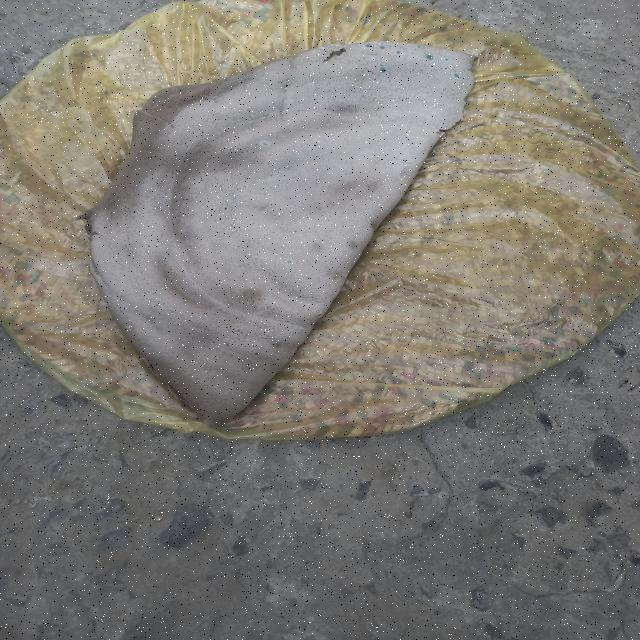injera_mold: (124, 316, 134, 332), (258, 140, 270, 148), (425, 54, 434, 61), (379, 68, 387, 74), (286, 260, 294, 265), (453, 73, 461, 78), (330, 43, 340, 47), (395, 50, 402, 55), (204, 357, 210, 362), (379, 46, 386, 50), (433, 68, 439, 72), (319, 46, 325, 50), (202, 362, 207, 366), (365, 44, 371, 47), (444, 58, 450, 61), (379, 64, 385, 66), (201, 97, 204, 100), (197, 358, 201, 360), (417, 46, 421, 48), (205, 371, 208, 373), (202, 95, 205, 97), (216, 357, 218, 359), (212, 356, 214, 358), (212, 100, 214, 102), (195, 103, 197, 105), (200, 100, 202, 102), (205, 96, 207, 98), (195, 362, 197, 363), (201, 104, 203, 105), (210, 104, 212, 105)
